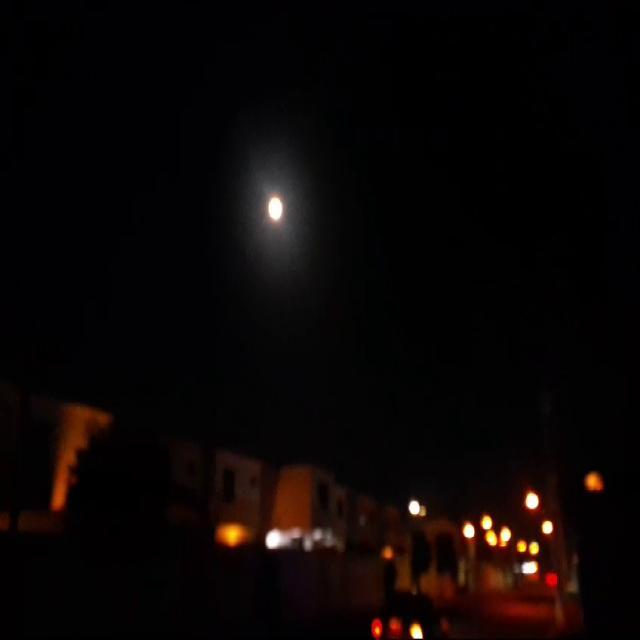moon: (265, 194, 285, 228)
